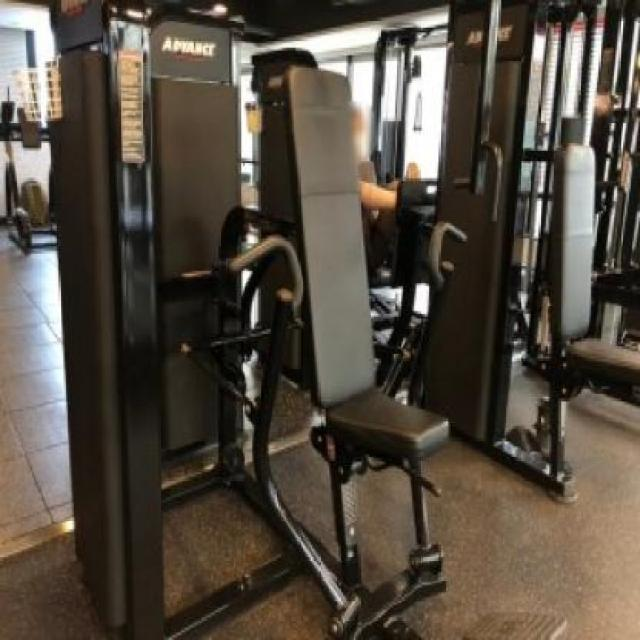Chest Press machine: (48, 0, 480, 640)
